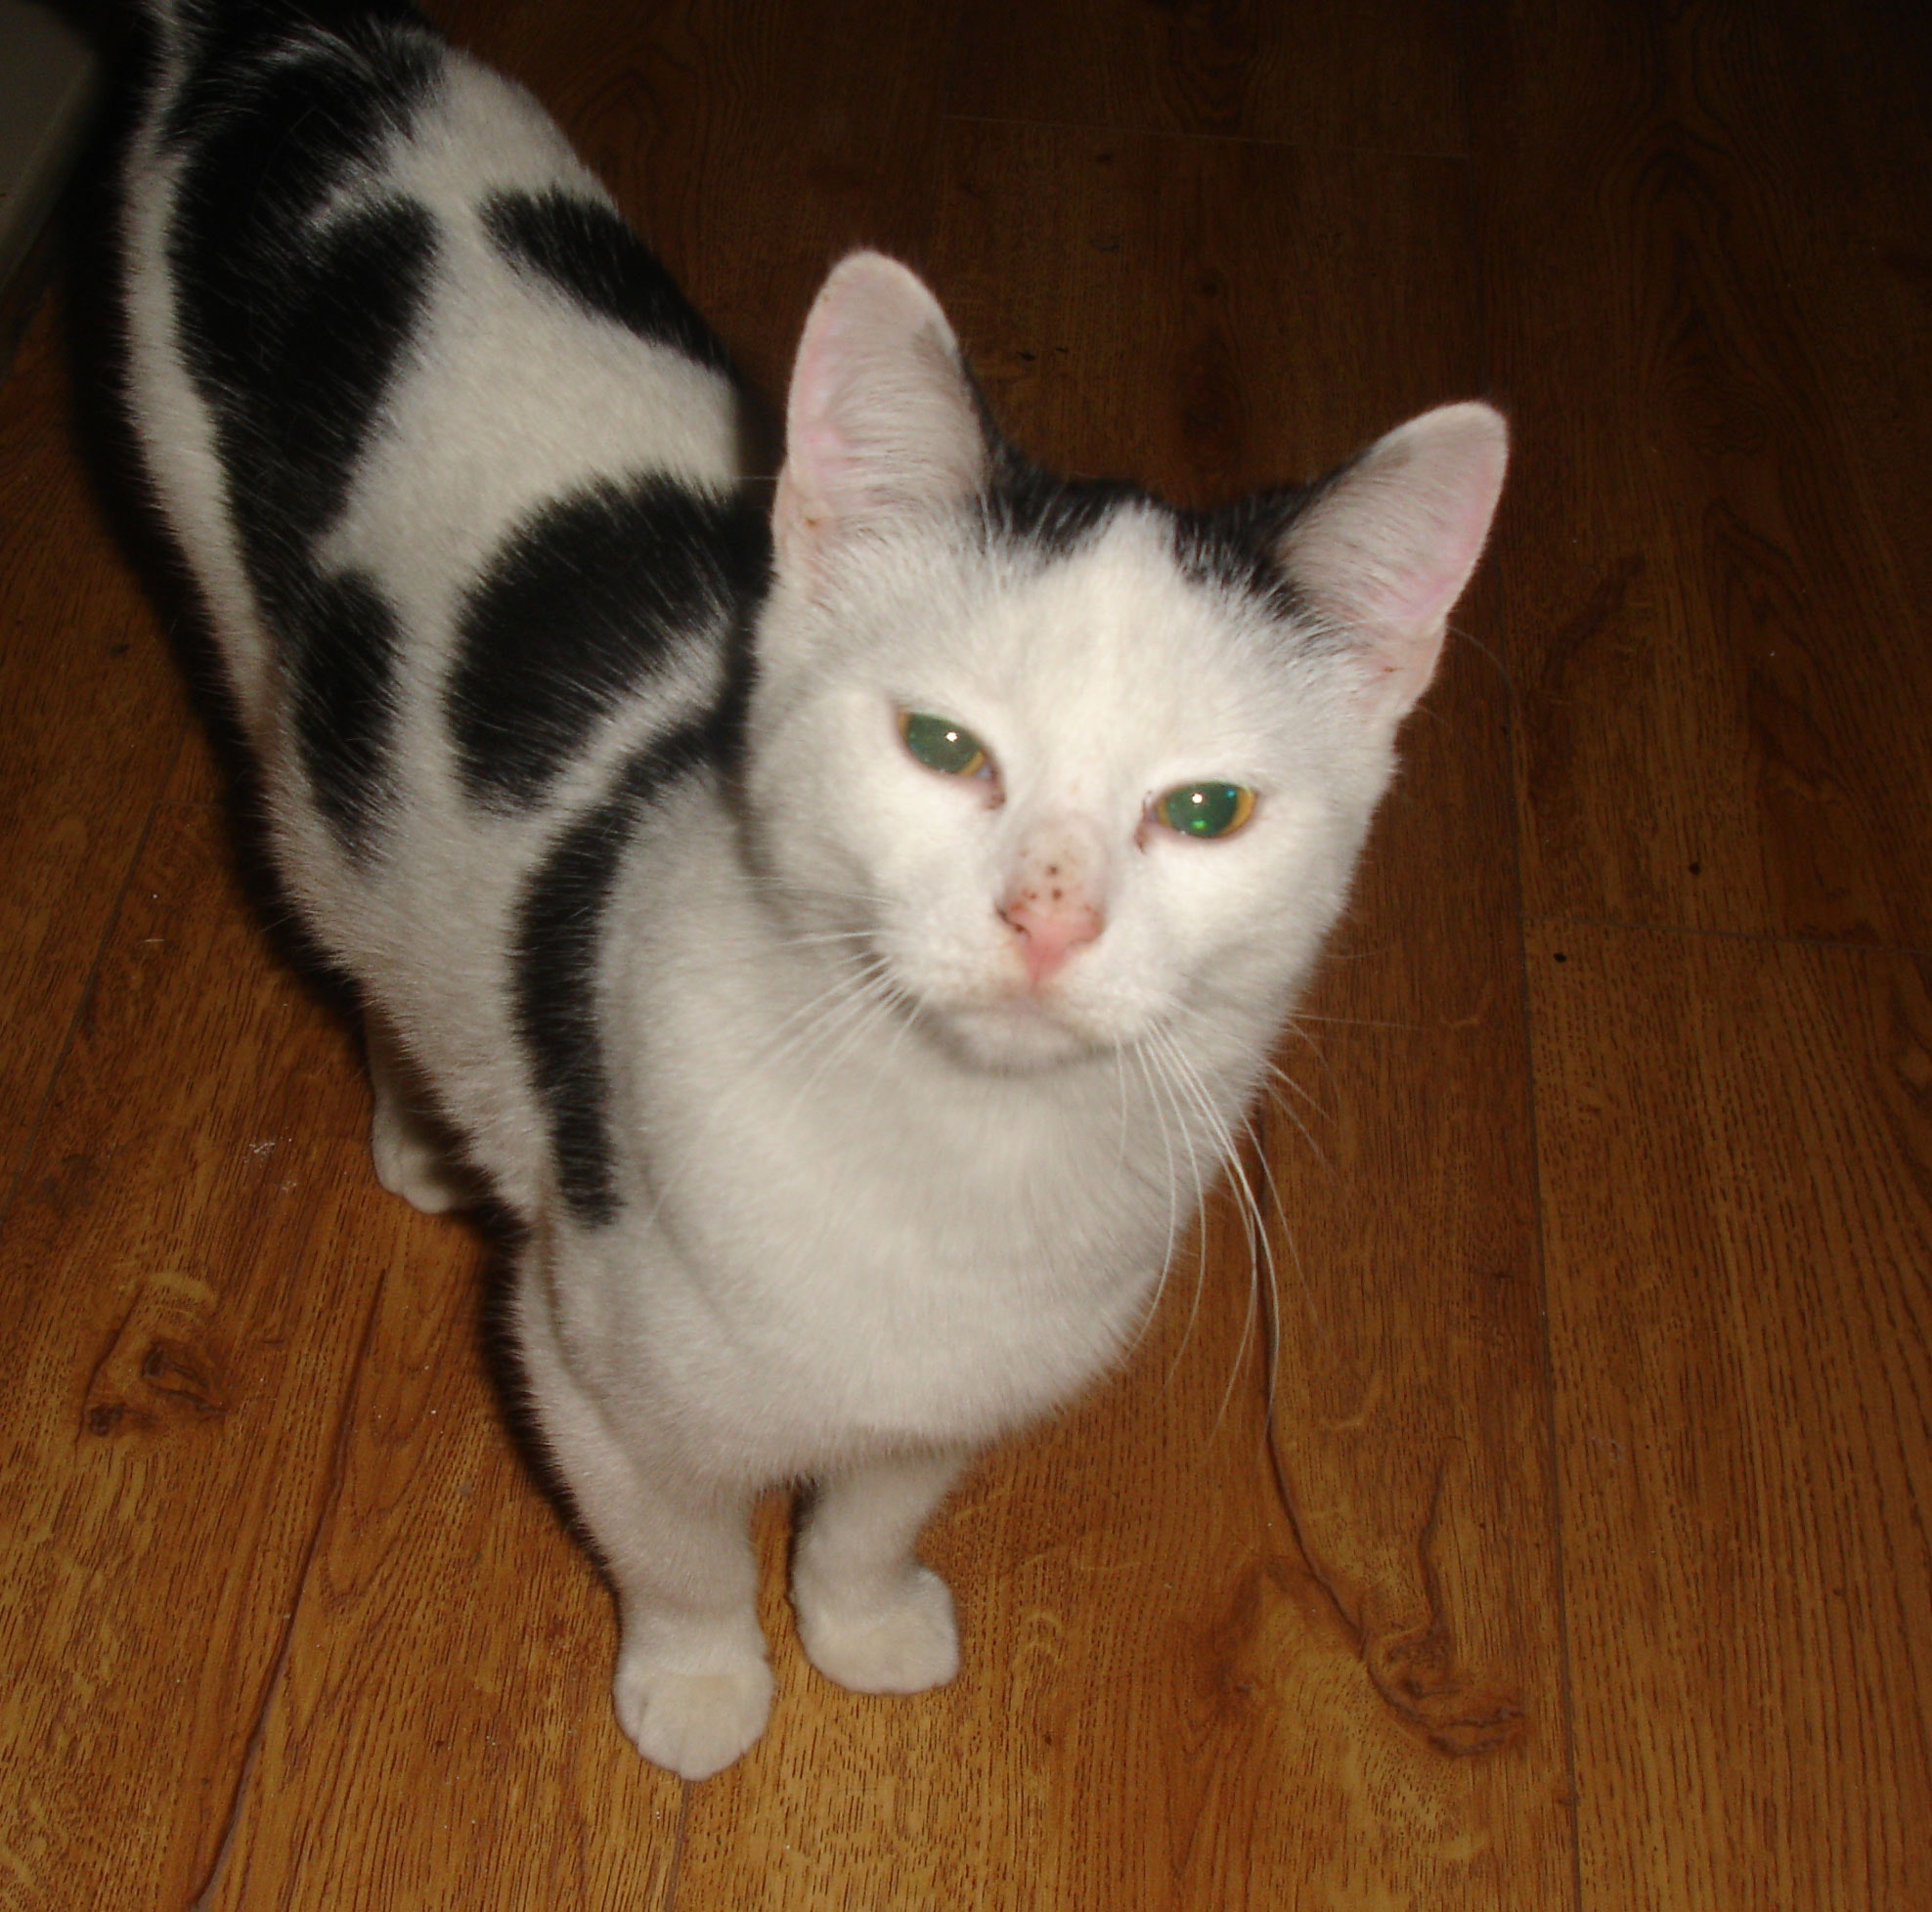cat: (14, 2, 1529, 1770)
cat-face: (702, 222, 1519, 1322)
